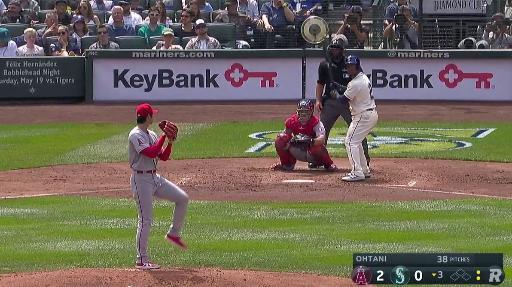pitcher: (128, 104, 199, 270)
